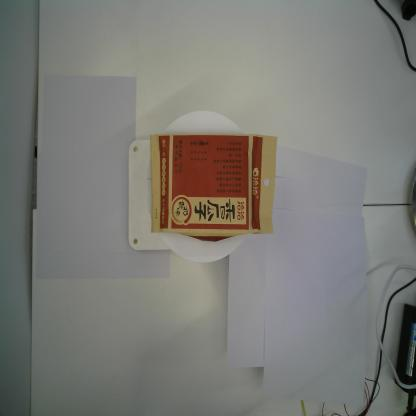Dried Food: (148, 131, 278, 244)
